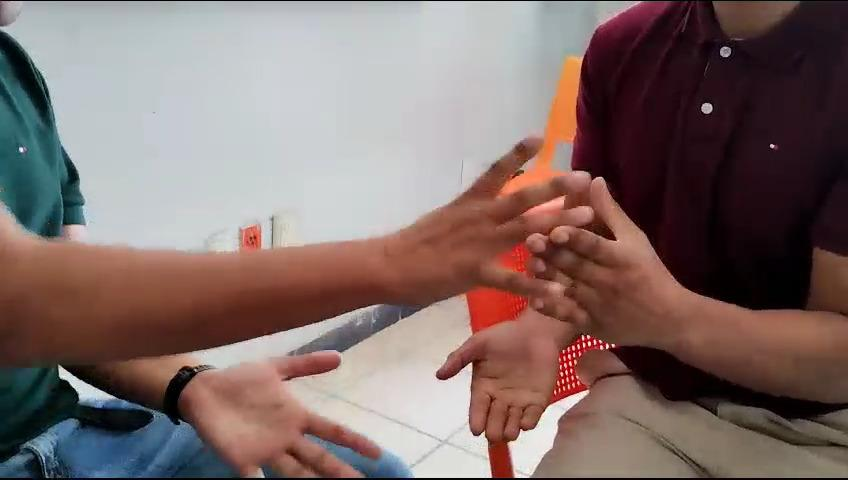Paper: (344, 129, 599, 332), (431, 315, 568, 453)
